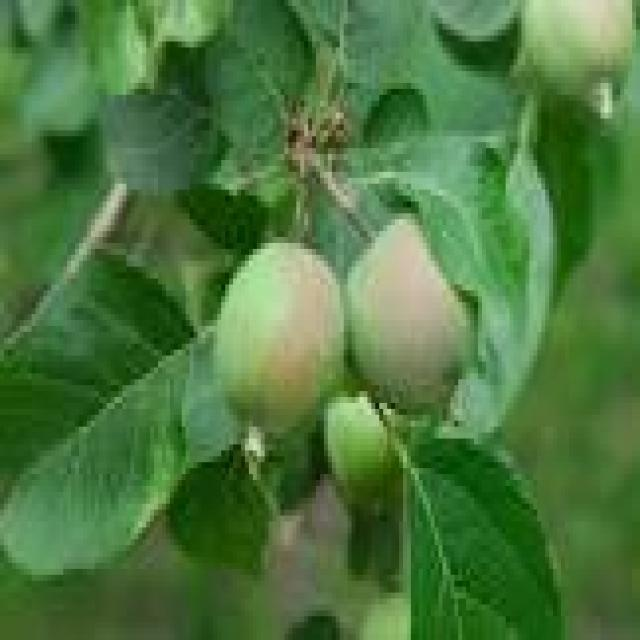apple: (217, 243, 344, 427), (348, 219, 466, 409)
